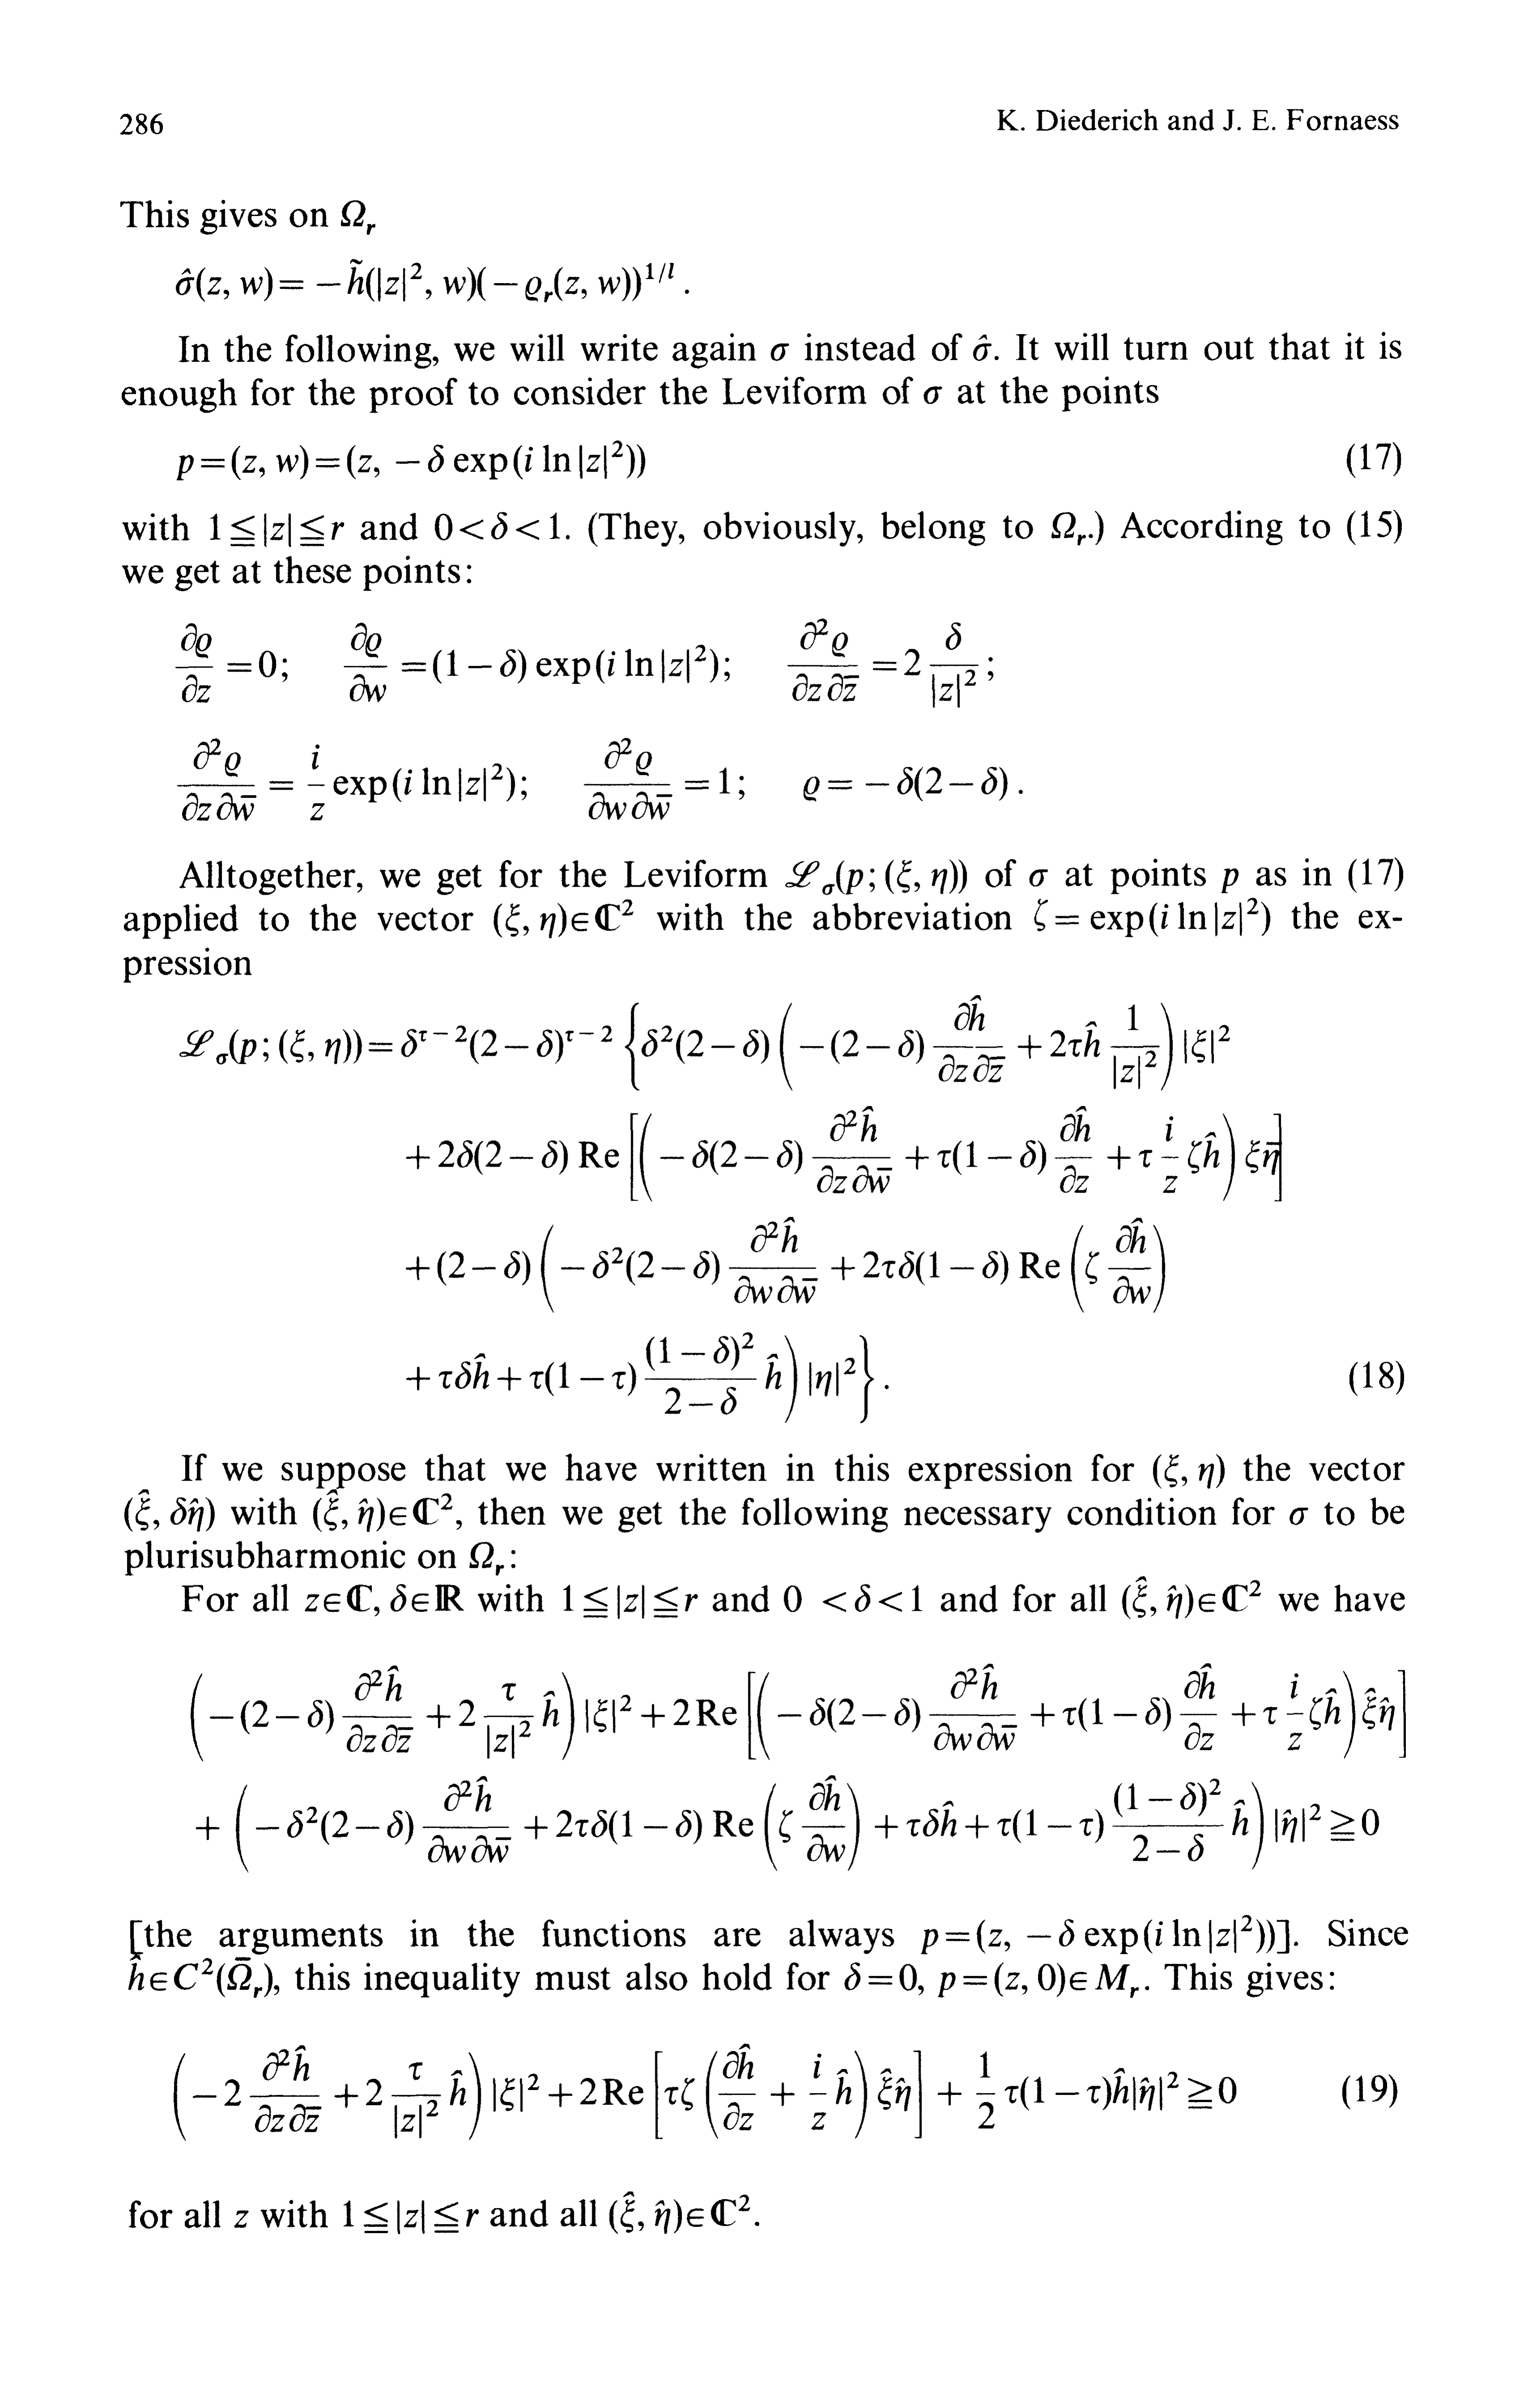maths: (190, 1664, 1395, 1760), (197, 1774, 1379, 1873), (174, 2043, 1236, 2141), (179, 995, 1229, 1090), (406, 1106, 1282, 1200), (406, 1218, 1164, 1313), (406, 1332, 889, 1423), (344, 623, 718, 702), (177, 739, 515, 820), (176, 260, 673, 302), (177, 441, 645, 479), (787, 618, 978, 707), (920, 1915, 1275, 1953), (583, 737, 729, 820), (128, 1920, 272, 1997), (845, 1962, 1149, 1997), (313, 1462, 451, 1532), (1034, 897, 1270, 937), (176, 623, 276, 702), (804, 767, 1008, 800), (785, 860, 966, 895), (609, 2190, 750, 2234), (1122, 1576, 1261, 1618), (494, 899, 632, 937), (304, 1585, 464, 1616), (342, 2201, 478, 2234), (211, 512, 344, 546), (564, 1585, 697, 1618), (125, 1490, 214, 1532), (783, 1585, 922, 1611), (436, 512, 560, 541), (1154, 1455, 1224, 1488), (469, 1541, 504, 1576), (341, 200, 374, 235), (1052, 512, 1085, 546), (973, 335, 998, 360), (1398, 1671, 1405, 1757), (1222, 869, 1238, 893), (1289, 1508, 1308, 1525), (924, 386, 941, 404), (1029, 869, 1047, 886), (771, 344, 789, 360), (234, 2210, 248, 2227)
